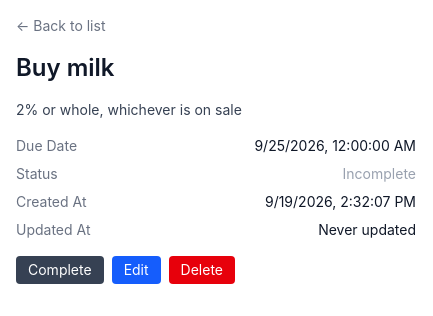
TodoDetailRoute › hides the back-to-list link while editing, leaving Cancel as the only way back
Expected: the heading "Buy milk" is shown, [16, 53, 114, 82]
Expected: the link "← Back to list" is shown, [16, 16, 106, 36]
Click the button "Edit" at x=136, y=270, box [112, 256, 161, 284]
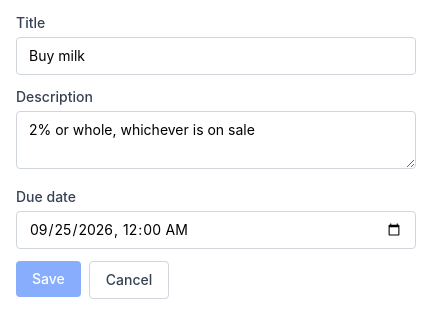
Now the link "Back to list" is gone
Now the button "Cancel" is shown, box [89, 261, 169, 299]
